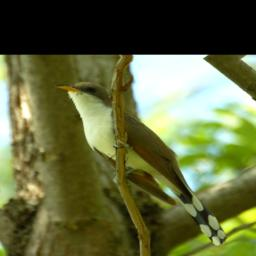Cuckoo: (51, 81, 229, 245)
